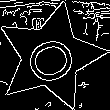O_NE: (18, 26, 83, 87)
